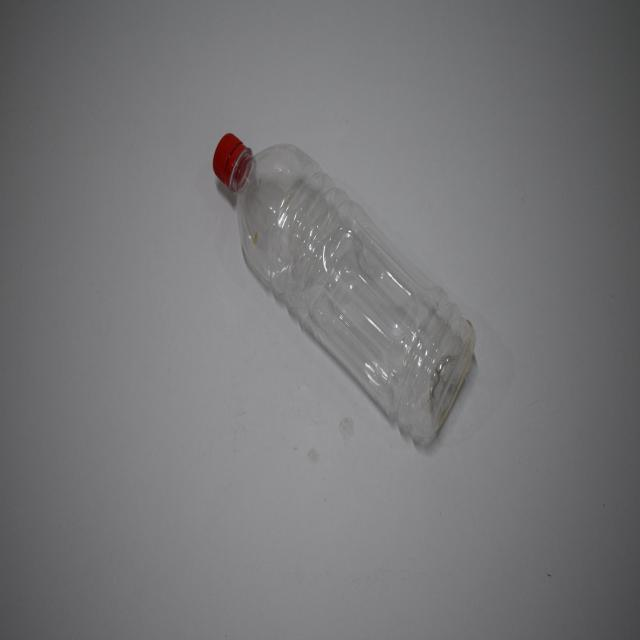bottle: (213, 110, 487, 478)
